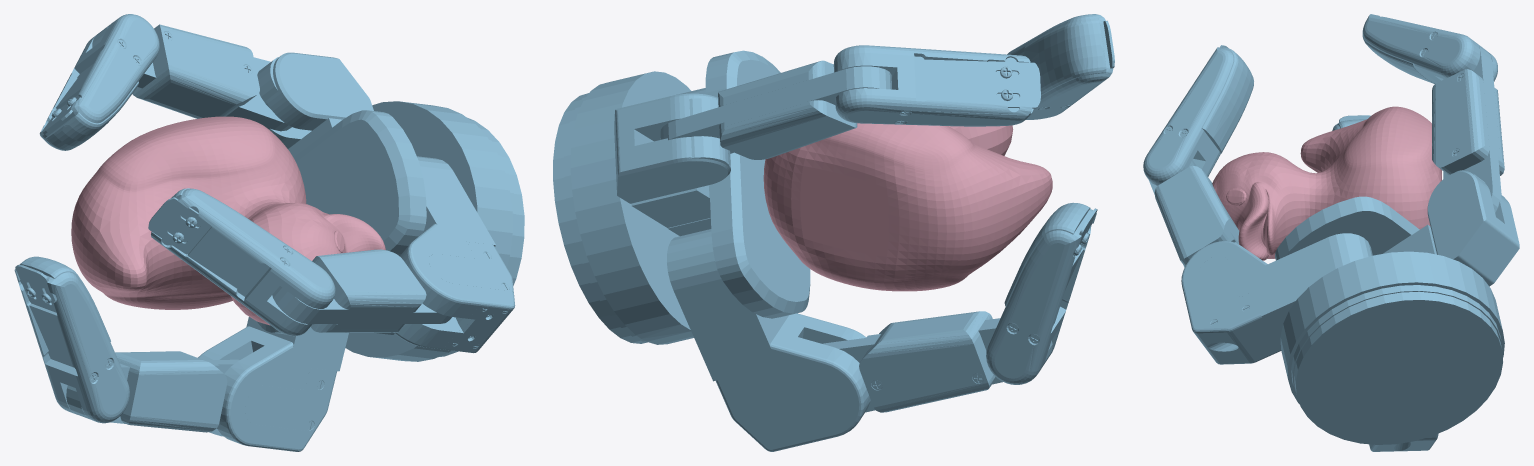
3 renders of one model, left to right at view 1: azimuth 30°, elevation 25°; view 2: azimuth 150°, elevation 25°; view 3: azimuth 270°, elevation 25°, orthographic. The views are drawn at different scales.
Parts seen in each view (by area): view 1: world, rubber_duck.stl; view 2: world, rubber_duck.stl; view 3: world, rubber_duck.stl.
Part boxes in pixels (left/top/right/bottom): world: left=14, top=14, right=524, bottom=451; rubber_duck.stl: left=71, top=116, right=385, bottom=325; world: left=553, top=14, right=1114, bottom=451; rubber_duck.stl: left=763, top=123, right=1052, bottom=291; world: left=1143, top=14, right=1519, bottom=451; rubber_duck.stl: left=1212, top=106, right=1441, bottom=260.
Bounding box in the file's own units: 0.1911 × 0.164 × 0.1519.
